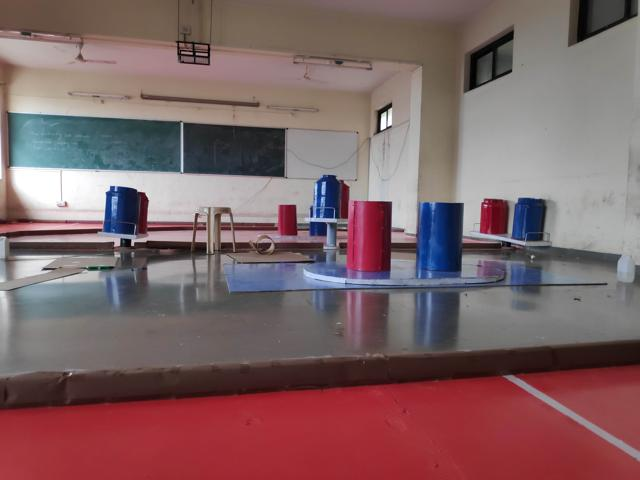Blue: (418, 200, 462, 274), (104, 186, 137, 234), (512, 198, 544, 240), (312, 176, 340, 219)
Red: (347, 197, 391, 271), (481, 198, 508, 234), (136, 191, 153, 237), (277, 204, 299, 236)
